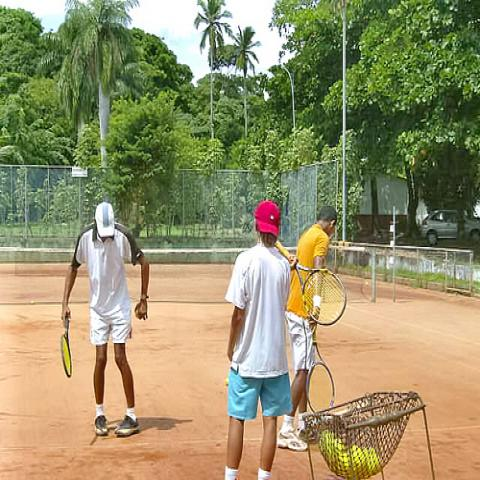car: (420, 210, 479, 246)
